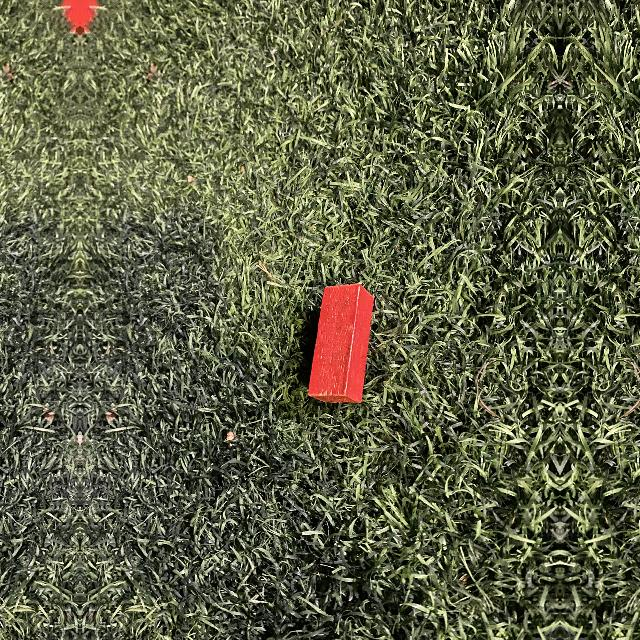red block: (306, 282, 372, 406)
